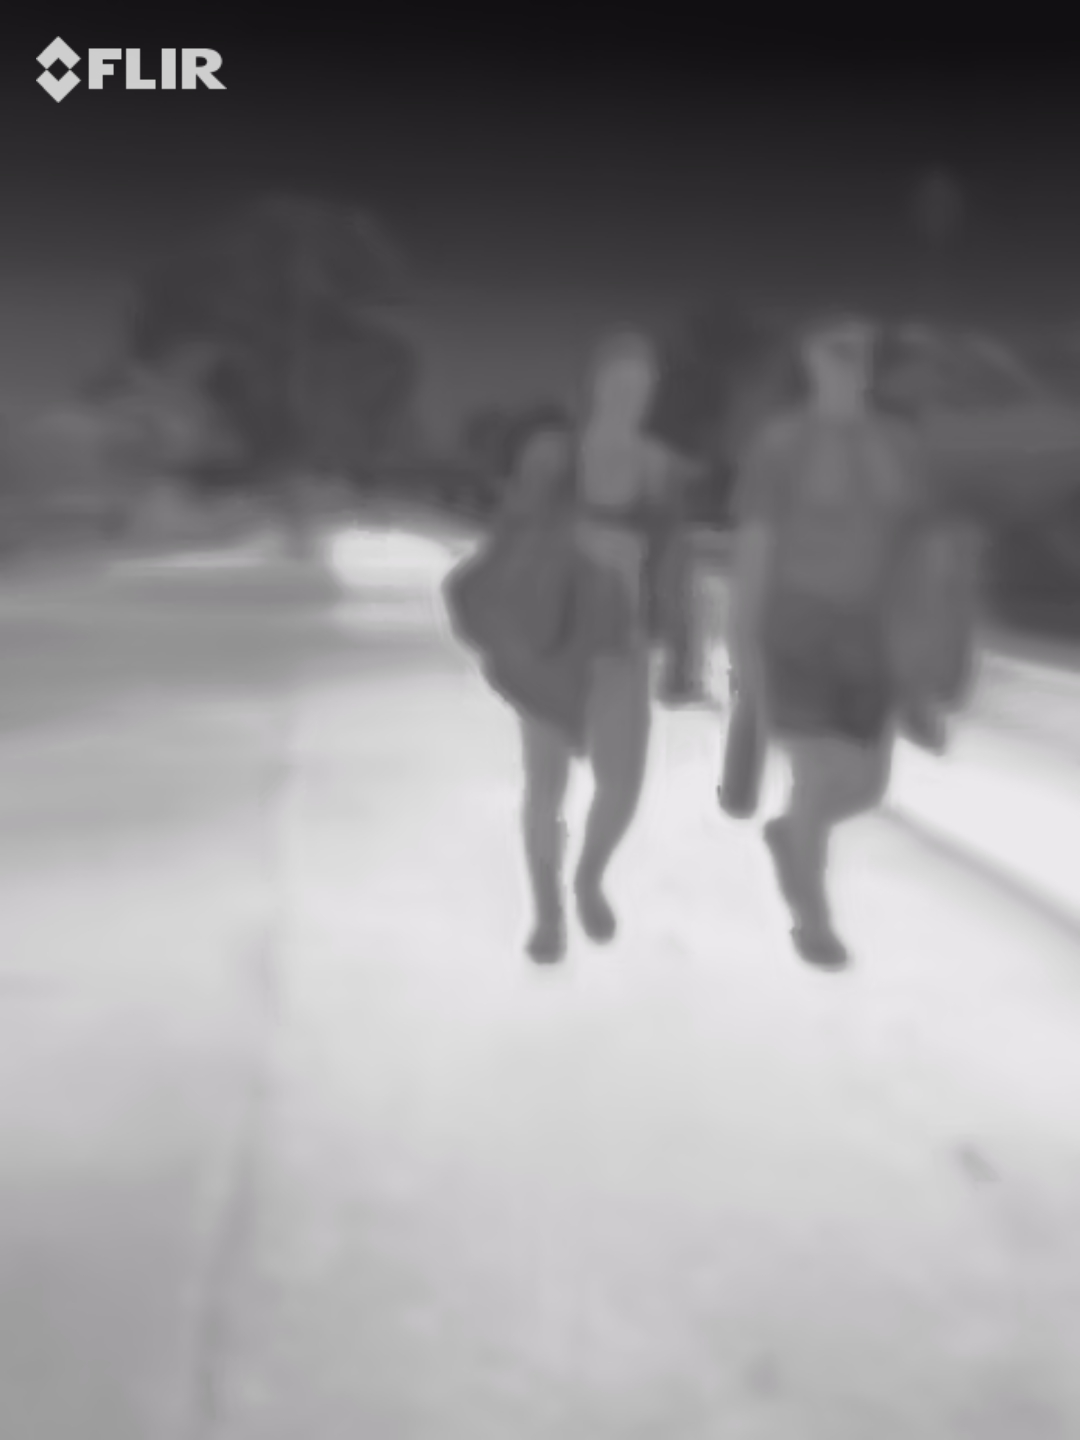head: (577, 325, 665, 436), (792, 298, 882, 406)
